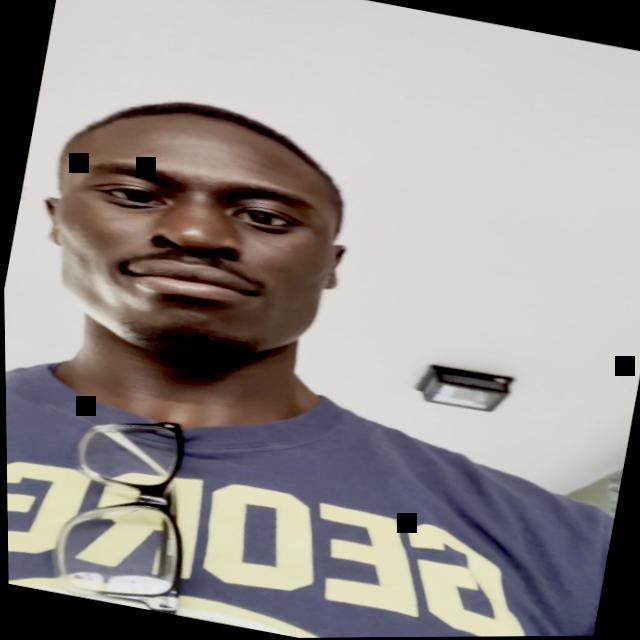NO-Mask: (15, 84, 372, 406)
